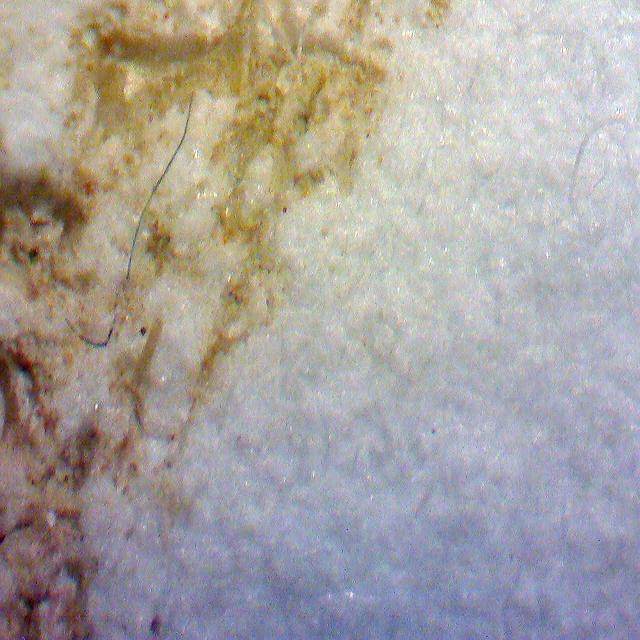microplastic: (118, 89, 201, 280)
